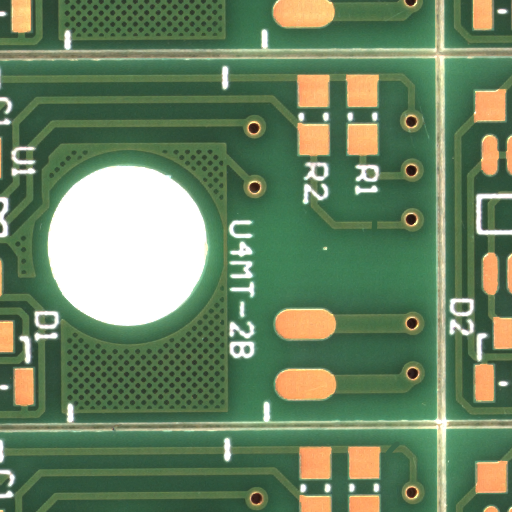Open_circuit: (392, 448, 407, 461), (373, 225, 381, 237)
